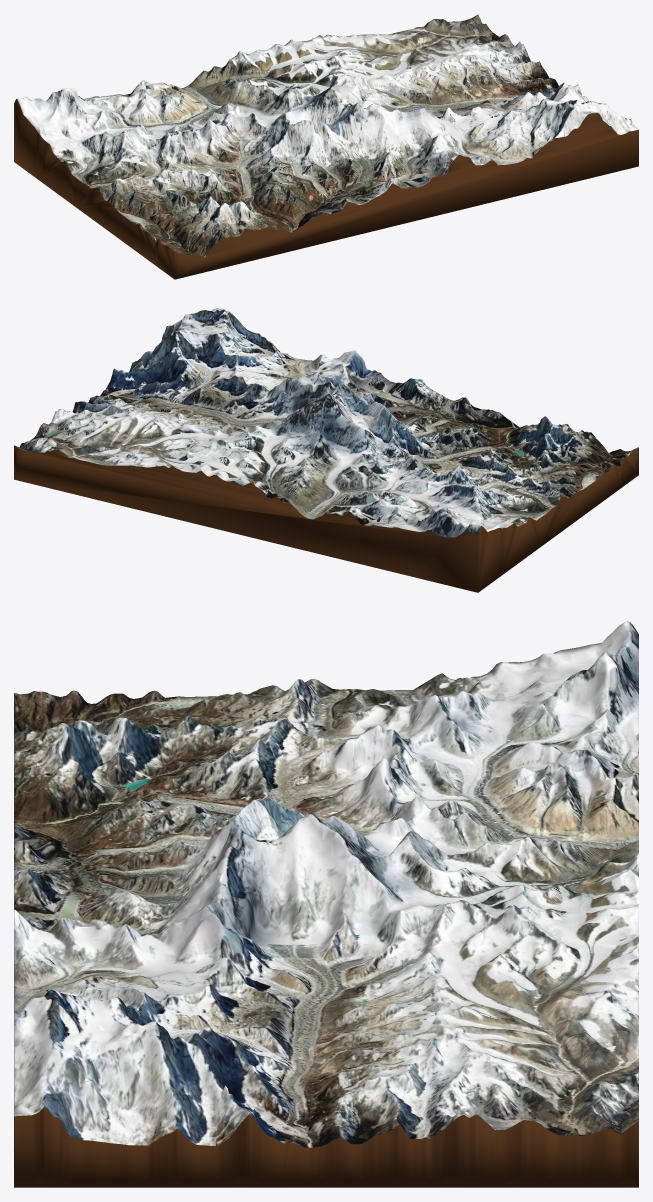
File: everest-low.glb
3 views of the same model, one above another, from view 1: azimuth 30°, elevation 25°; view 2: azimuth 150°, elevation 25°; view 3: azimuth 270°, elevation 25° (orthographic). The views are drawn at different scales.
Visible parts, largest first — view 1: EXPORT_GOOGLE_SAT_WM_Mat_0, EXPORT_GOOGLE_SAT_WM_Mat.1_0; view 2: EXPORT_GOOGLE_SAT_WM_Mat_0, EXPORT_GOOGLE_SAT_WM_Mat.1_0; view 3: EXPORT_GOOGLE_SAT_WM_Mat_0, EXPORT_GOOGLE_SAT_WM_Mat.1_0.
Boxes of the visible parts, bbox=[...] form: EXPORT_GOOGLE_SAT_WM_Mat_0: bbox=[17, 14, 638, 257]; EXPORT_GOOGLE_SAT_WM_Mat.1_0: bbox=[14, 19, 638, 279]; EXPORT_GOOGLE_SAT_WM_Mat_0: bbox=[16, 308, 638, 537]; EXPORT_GOOGLE_SAT_WM_Mat.1_0: bbox=[14, 341, 638, 592]; EXPORT_GOOGLE_SAT_WM_Mat_0: bbox=[14, 621, 638, 1147]; EXPORT_GOOGLE_SAT_WM_Mat.1_0: bbox=[14, 648, 638, 1187].
Size of the model in its own units: 6.36 by 1.05 by 3.82.
2 materials, 1 textured.
